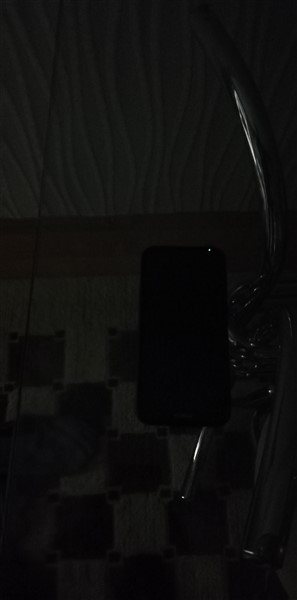telefon: (133, 241, 235, 437)
